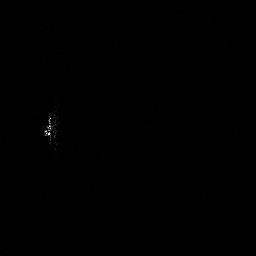ship: (43, 111, 60, 152)
